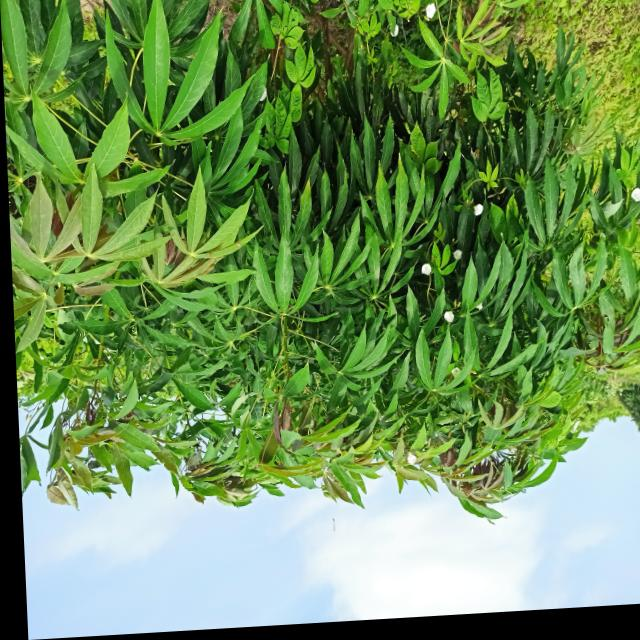Maleza: (577, 11, 633, 140), (525, 4, 640, 55), (271, 9, 320, 85), (262, 85, 299, 158), (476, 71, 514, 122), (406, 122, 442, 159)
